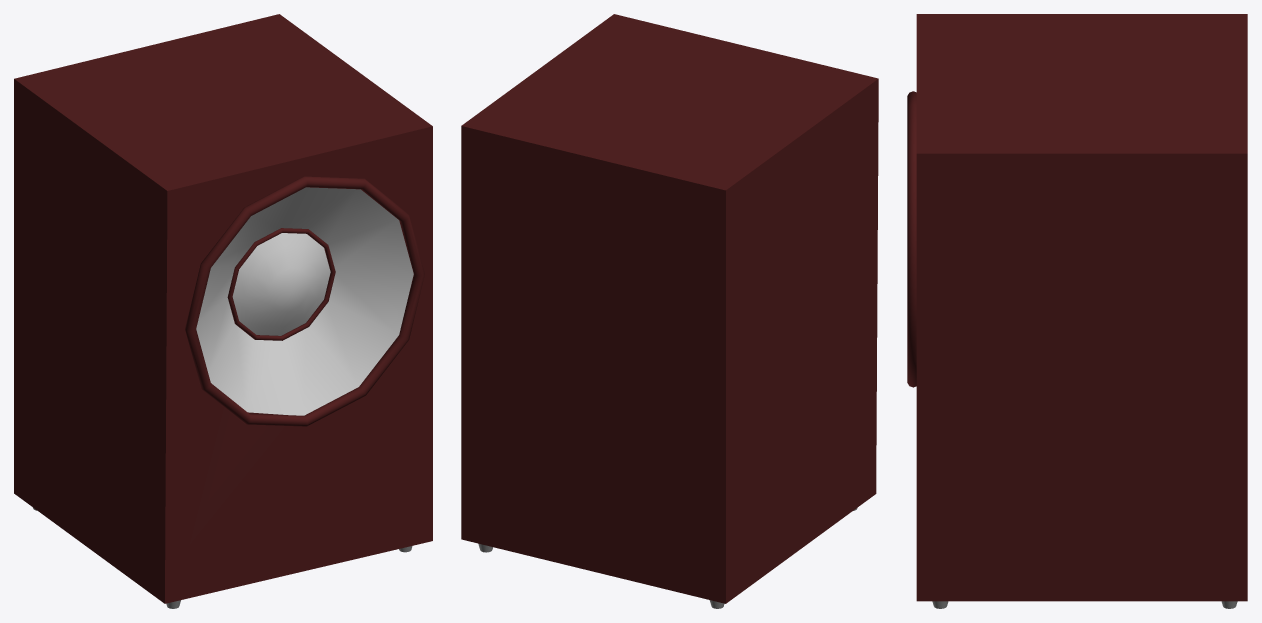
File: Loudspeaker box.FBX
3 views of the same model, side by side, from view 1: azimuth 30°, elevation 25°; view 2: azimuth 150°, elevation 25°; view 3: azimuth 270°, elevation 25° (orthographic). The views are drawn at different scales.
Parts seen in each view (by area): view 1: Box001; view 2: Box001; view 3: Box001.
Boxes of the visible parts, <box> form: Box001: <box>14,14,432,608</box>; Box001: <box>461,14,878,608</box>; Box001: <box>907,14,1247,608</box>.
Size of the model in its own units: 0.7003 by 1.08 by 0.721.
